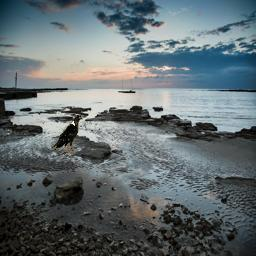Crow: (52, 115, 83, 155)
